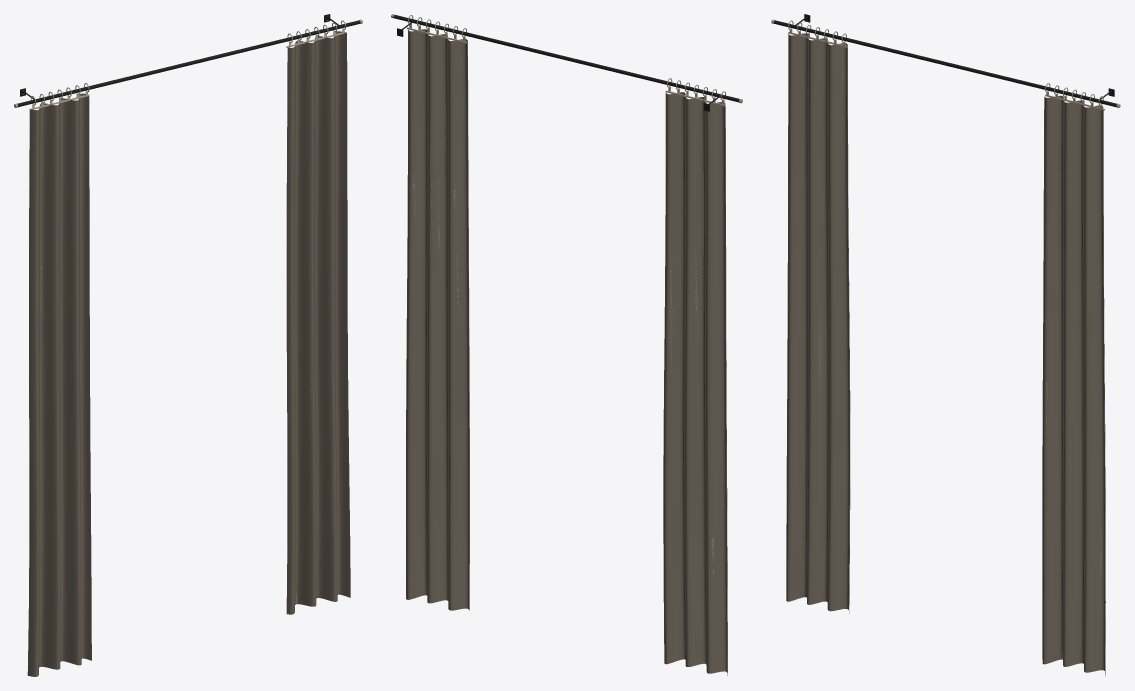
The model's file is bedroom-curtain-pair-dabd89f703cc.glb.
The picture shows the model from 3 angles, left to right: view 1: azimuth 30°, elevation 25°; view 2: azimuth 150°, elevation 25°; view 3: azimuth 330°, elevation 25°; orthographic projection.
Visible parts, largest first — view 1: cover-cloth, enamel-black, cloth-cream; view 2: cover-cloth, cloth-cream, enamel-black; view 3: cover-cloth, enamel-black, cloth-cream.
Boxes of the visible parts, bbox=[...] form: cover-cloth: bbox=[28, 31, 350, 676]; enamel-black: bbox=[17, 14, 360, 107]; cloth-cream: bbox=[27, 28, 350, 675]; cover-cloth: bbox=[406, 28, 727, 675]; cloth-cream: bbox=[407, 23, 727, 670]; enamel-black: bbox=[393, 15, 739, 111]; cover-cloth: bbox=[786, 32, 1105, 674]; enamel-black: bbox=[774, 14, 1117, 107]; cloth-cream: bbox=[788, 28, 1105, 676].
Size of the model in its own units: 1.76 by 2.8 by 0.157.
